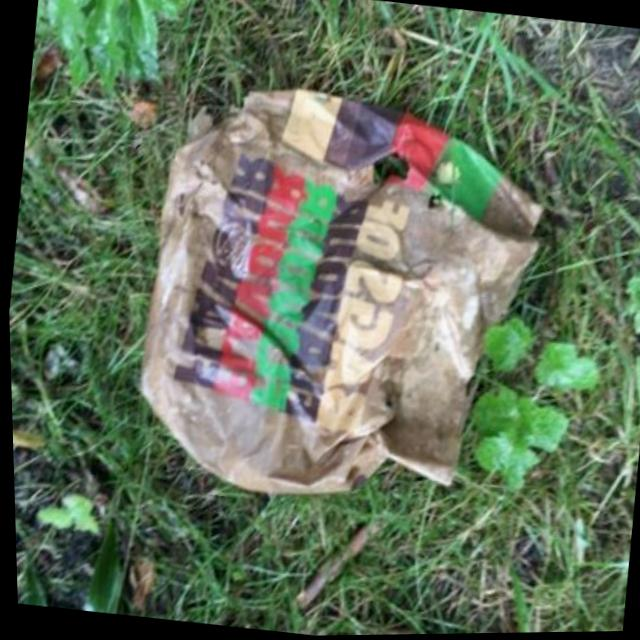Paper: (113, 66, 562, 528)
